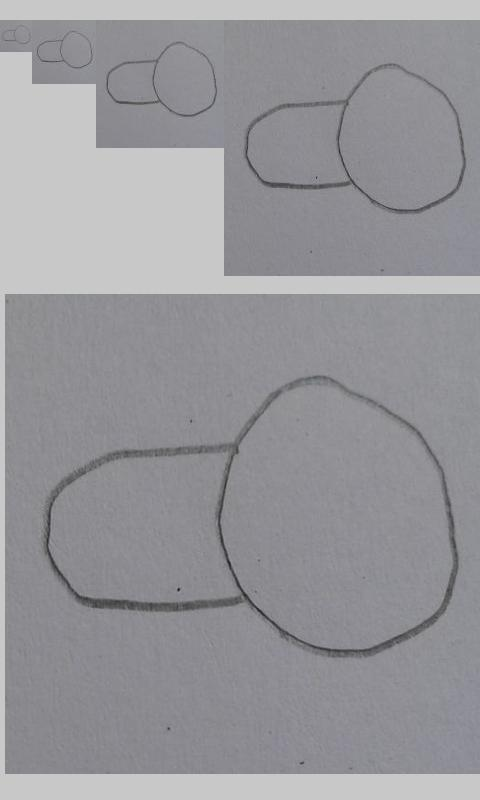switch: (41, 375, 461, 660), (244, 63, 467, 215), (106, 41, 218, 118), (36, 30, 94, 69), (2, 24, 32, 44)
